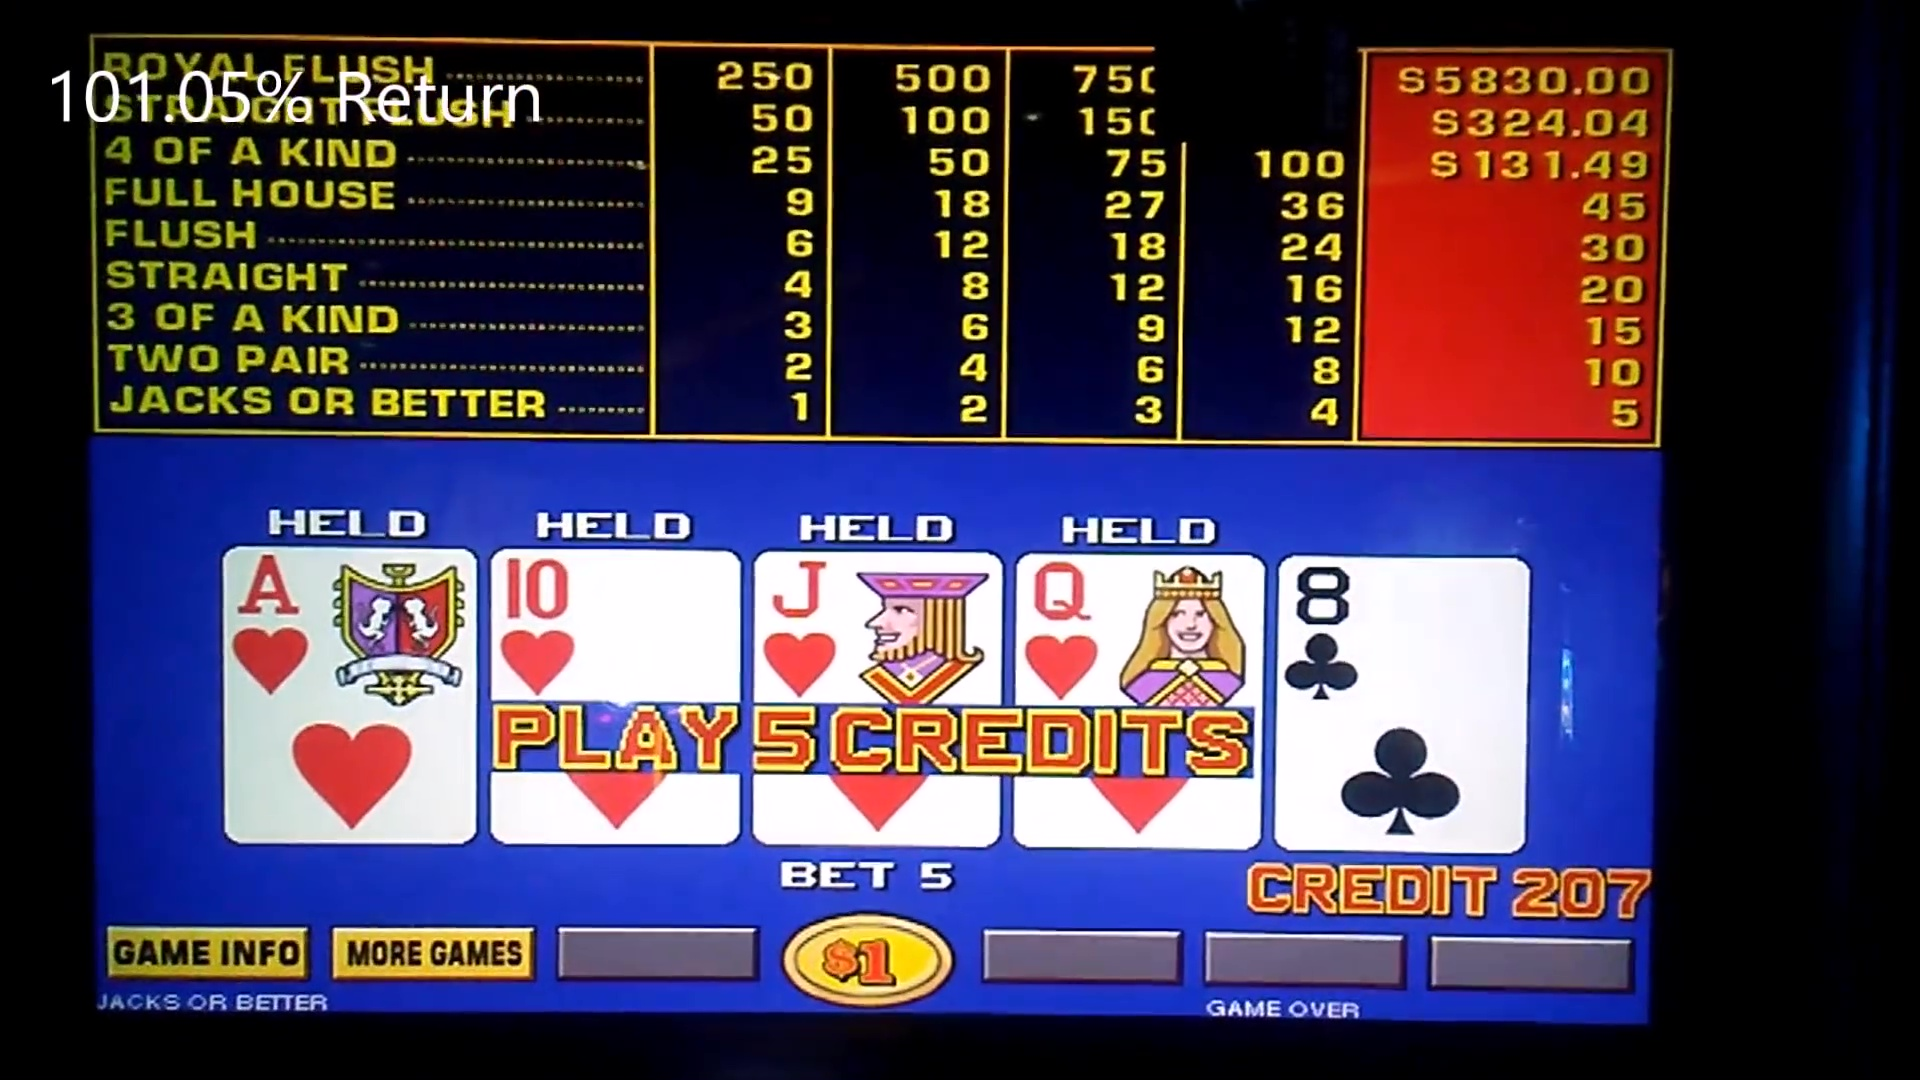C8: (1284, 563, 1526, 705)
HA: (229, 551, 472, 709)
HJ: (754, 556, 1000, 702)
HQ: (1019, 556, 1261, 705)
HT: (500, 555, 736, 696)
